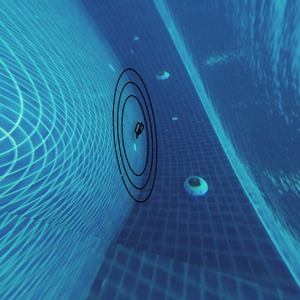circle: (98, 50, 176, 206)
submarine: (136, 120, 144, 138)
